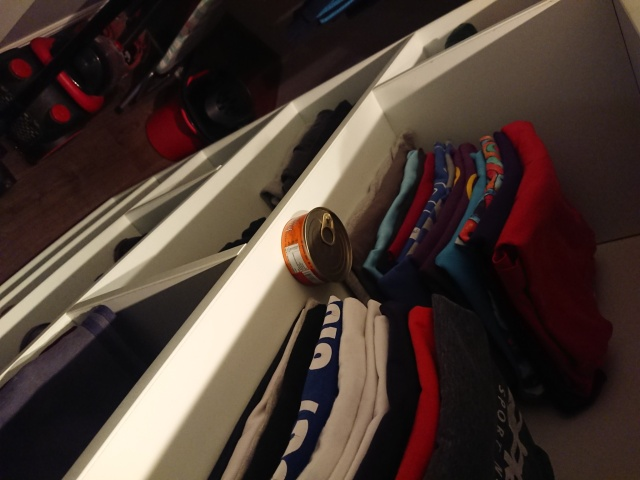Gavrilovic Pork Liver Pate 100g: (278, 204, 353, 289)
